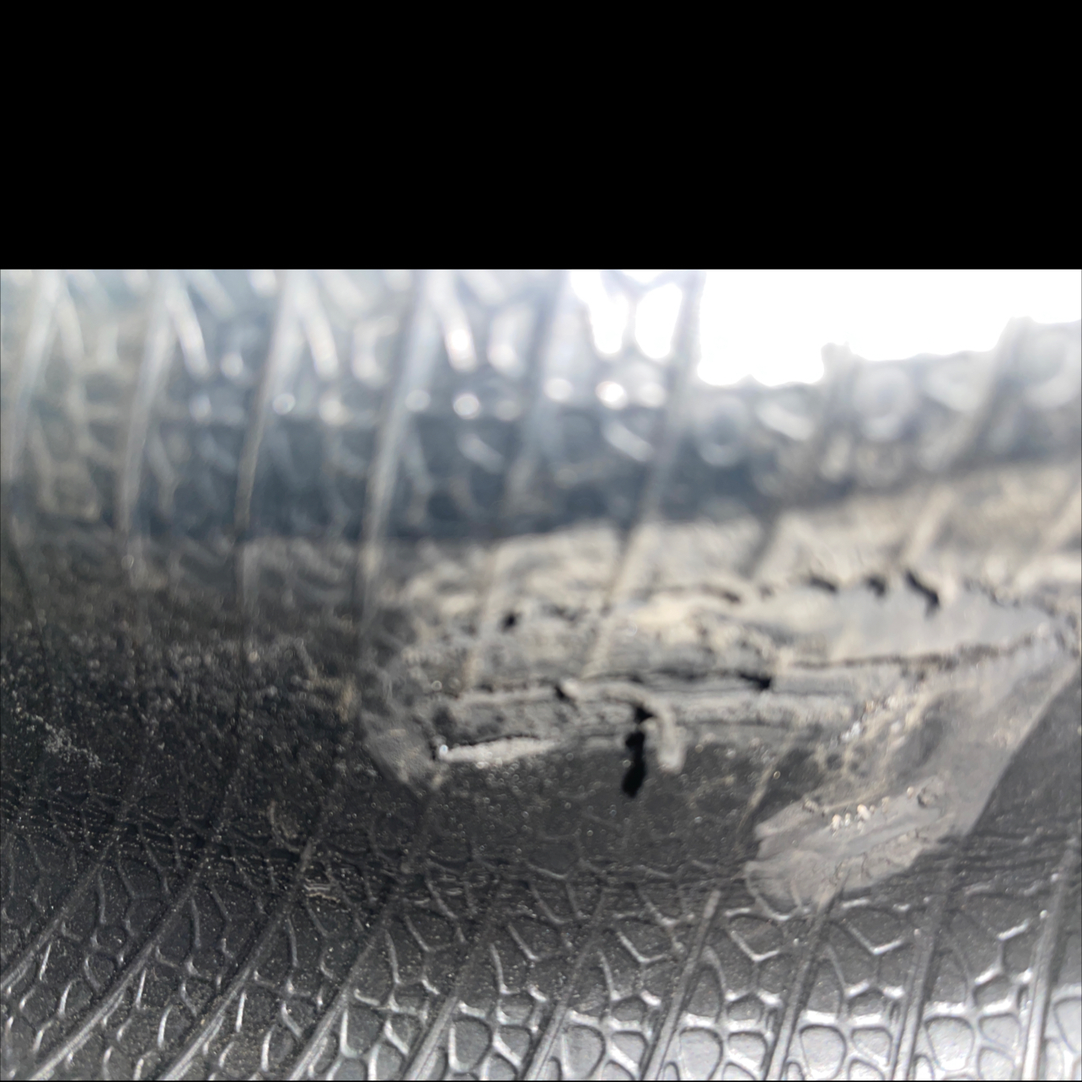cut: (384, 479, 1066, 944)
